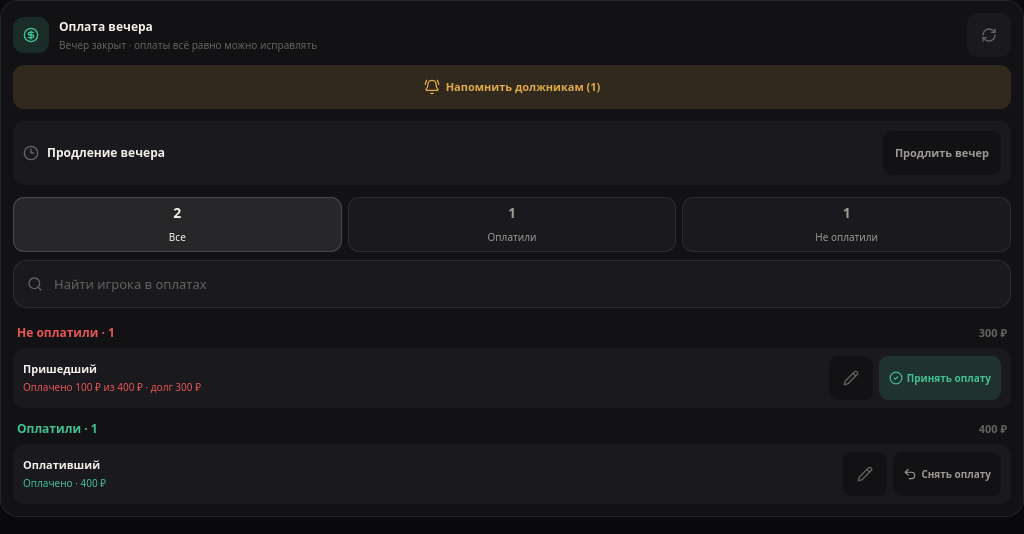
Test: Mounted evening lists › finds a paid player from the debt filter and rolls back a failed payment
The image size is (1024, 534).
Expected: the text "Пришедший" is shown, [23,361,97,376]
Click the button "1 Не оплатили" at (847, 224), box [682,197,1011,252]
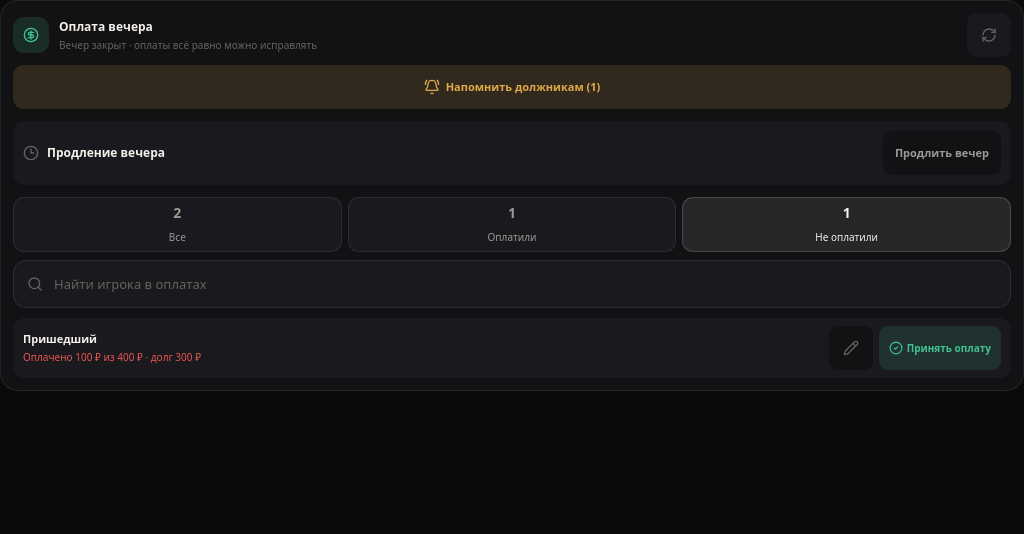
Type "Оплативший" into the field at (512, 284), box [13,260,1011,308]
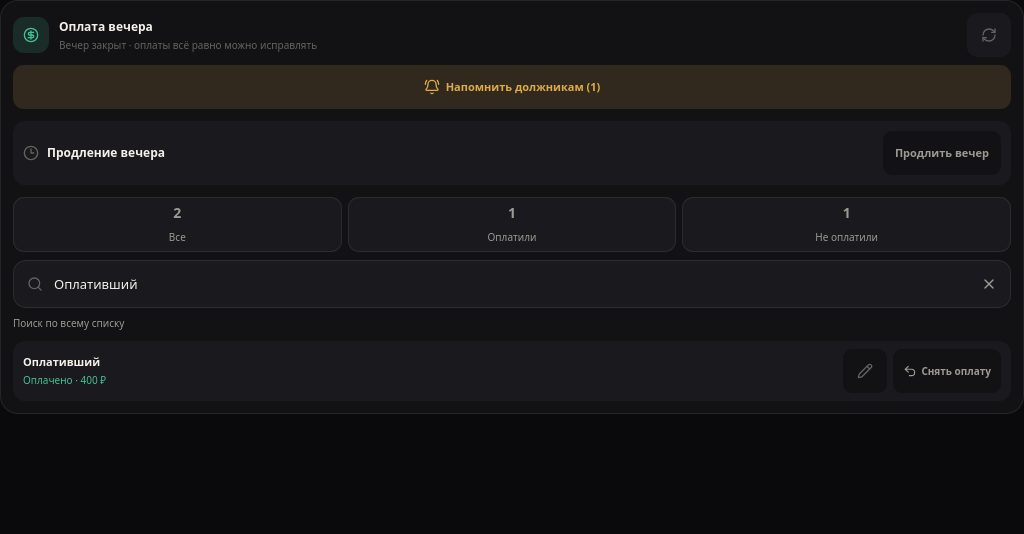
Result: the text "Оплативший" is shown at [23,354,100,369]
Click the button named "Очистить поиск" at (989, 284), box [967,262,1011,306]
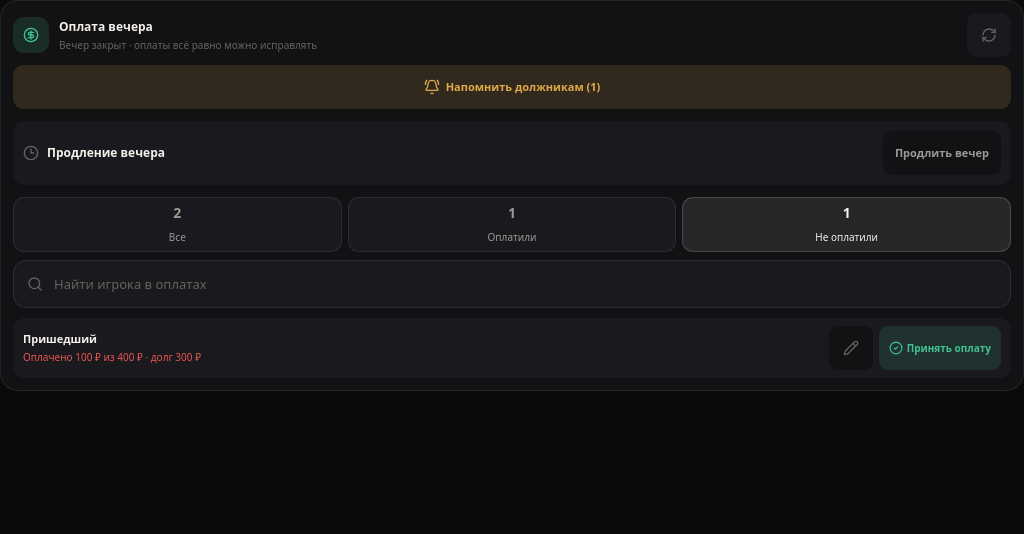
Result: the text "Оплативший" is gone
Click the button "Принять оплату" at (940, 348), box [879,326,1001,370]
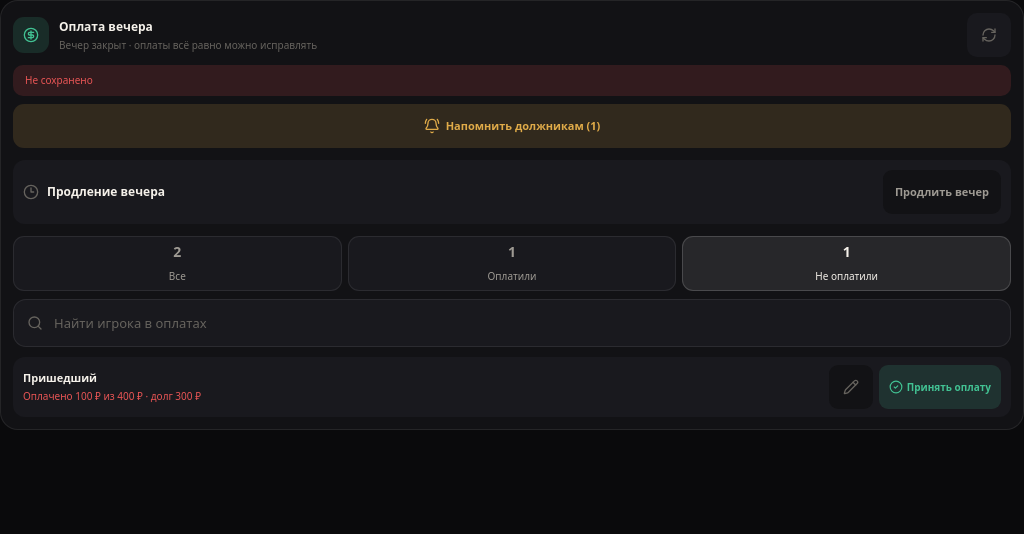
Result: the text "Пришедший" is shown at [23,370,97,385]
Result: the text "Не сохранено" is shown at [13,65,1011,96]
